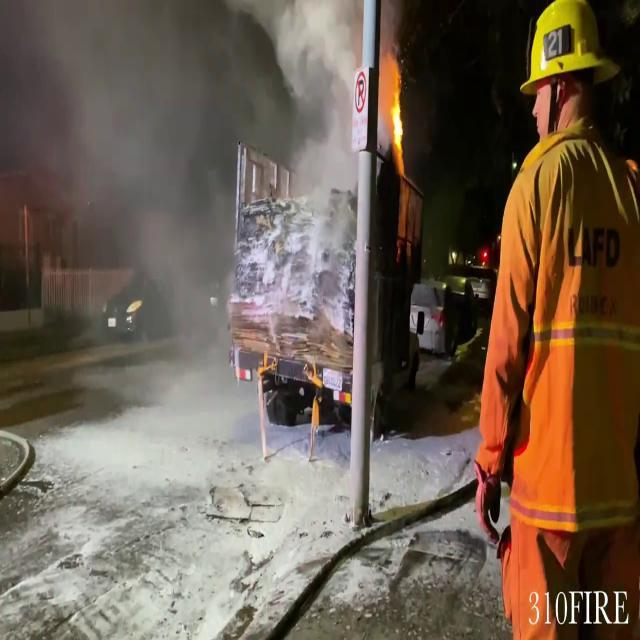Fire: (383, 46, 406, 170)
Smoke: (0, 0, 358, 376)
